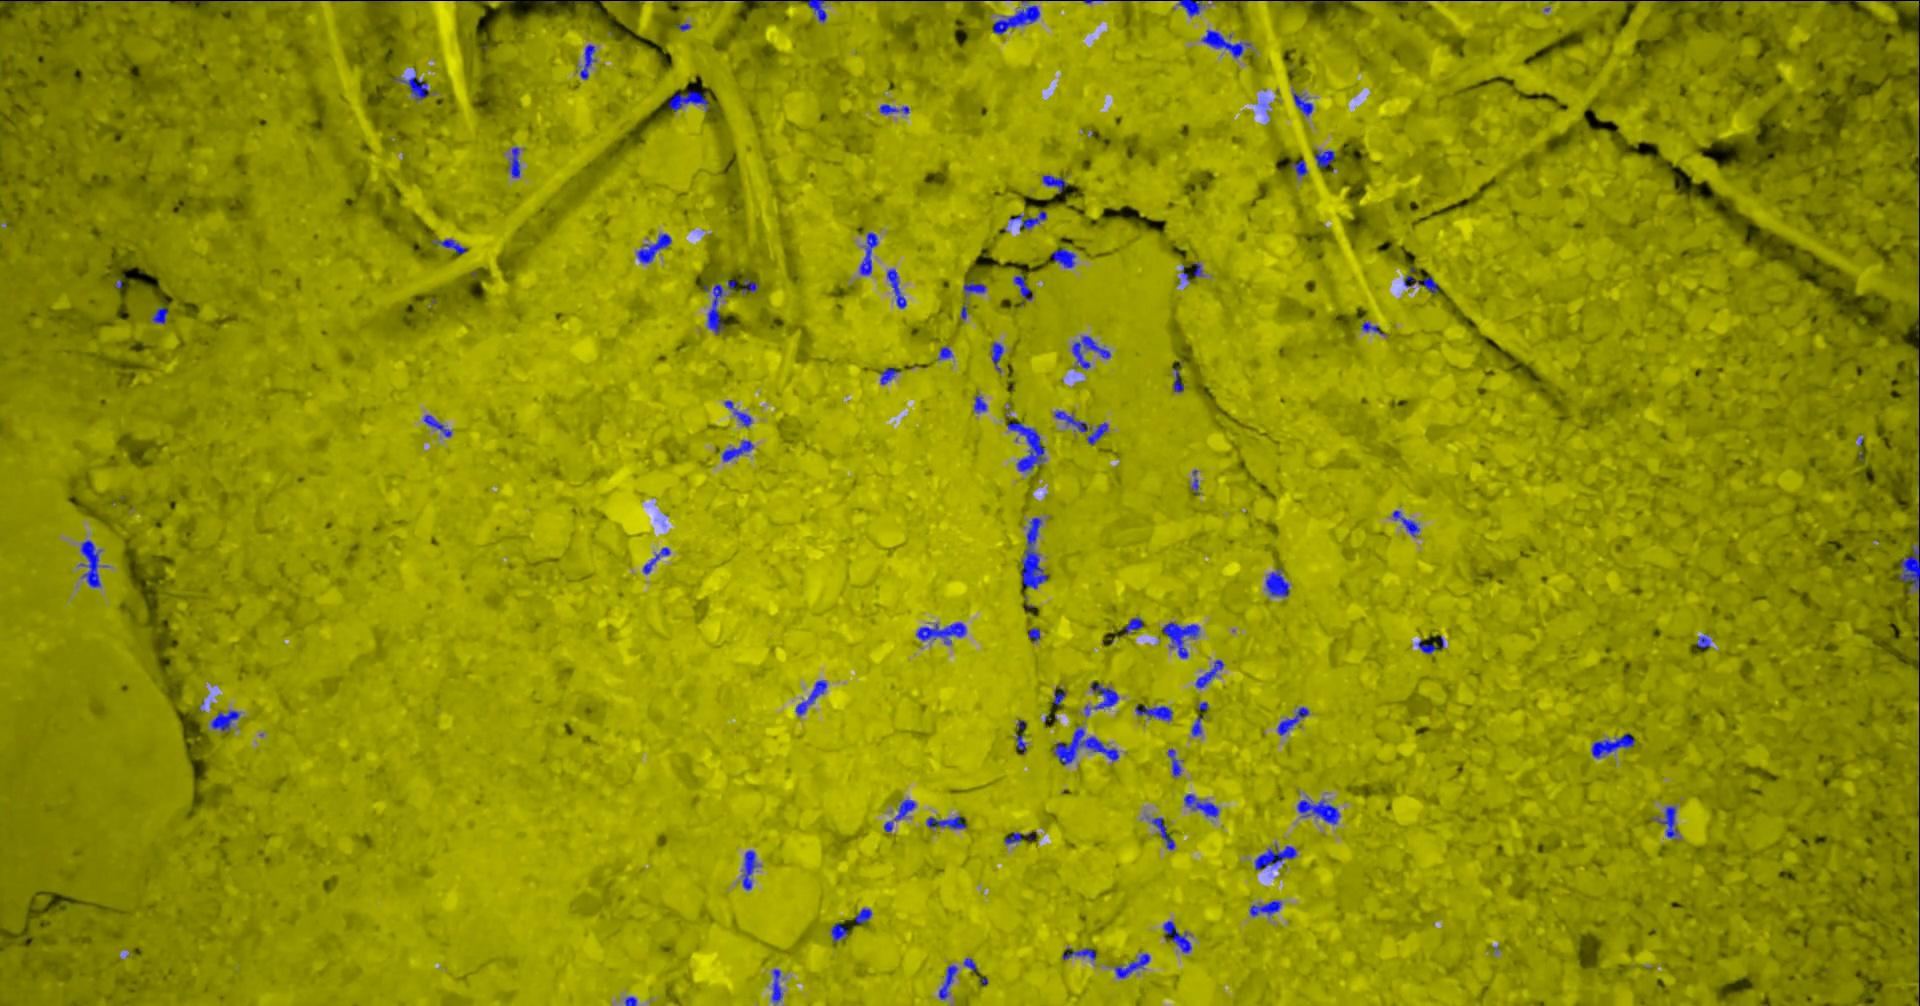ant: (1053, 727, 1117, 765), (1020, 517, 1048, 588), (1006, 422, 1045, 471), (992, 4, 1039, 34), (77, 540, 108, 587), (1161, 621, 1199, 658), (1897, 525, 1919, 588), (1201, 29, 1250, 57), (1070, 335, 1110, 368), (1084, 681, 1117, 715), (1591, 732, 1634, 757), (795, 680, 825, 715), (916, 622, 965, 644), (1255, 843, 1297, 869), (636, 232, 670, 263), (702, 283, 723, 334), (1297, 799, 1338, 823), (1403, 265, 1439, 293), (1162, 920, 1191, 951), (1114, 953, 1149, 978), (1277, 706, 1308, 735), (668, 89, 709, 111), (392, 75, 427, 99), (1183, 793, 1218, 817), (858, 232, 877, 276), (1194, 659, 1223, 687), (1150, 817, 1175, 848), (886, 268, 905, 307), (1010, 210, 1046, 230), (643, 547, 670, 573), (1053, 410, 1087, 431), (721, 439, 753, 461), (1392, 511, 1418, 536), (1135, 704, 1172, 721), (1265, 568, 1288, 596), (938, 965, 957, 998), (797, 0, 825, 22), (423, 414, 451, 436), (742, 850, 757, 889), (210, 710, 239, 730), (1658, 807, 1677, 837), (579, 44, 596, 79), (1013, 271, 1032, 300), (926, 815, 966, 828), (1086, 422, 1107, 445), (893, 799, 916, 821), (1291, 91, 1312, 116), (1051, 248, 1076, 267), (1250, 901, 1281, 915), (436, 239, 466, 253), (1417, 636, 1443, 653), (1177, 0, 1201, 17), (1043, 175, 1067, 192), (1062, 948, 1096, 959), (1167, 748, 1181, 775), (771, 969, 781, 1005), (508, 146, 519, 177), (990, 342, 1002, 372), (1314, 150, 1335, 166), (1004, 832, 1032, 843), (830, 922, 847, 941), (739, 277, 757, 293), (880, 367, 898, 384), (733, 409, 750, 426), (963, 281, 985, 293), (1361, 321, 1384, 334), (1290, 159, 1307, 175), (151, 306, 168, 323), (1124, 617, 1142, 633), (879, 104, 908, 113), (1173, 367, 1183, 392), (855, 908, 871, 923), (1191, 715, 1203, 735), (963, 956, 978, 972), (937, 345, 952, 359), (973, 395, 985, 412), (1053, 688, 1065, 705), (1697, 633, 1709, 648), (1016, 734, 1026, 752), (1029, 627, 1039, 641)
